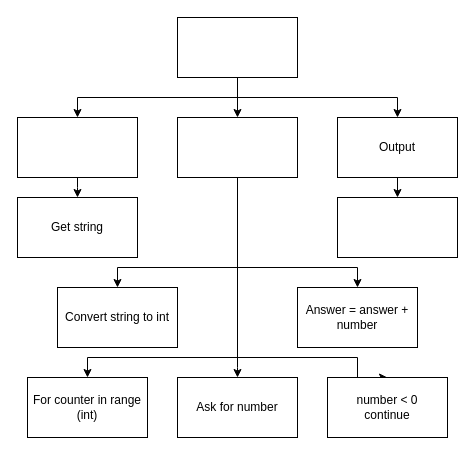
This 475x455 diagram has some shape labels left out. The centre of each missing label's shape, as x and y in pixels:
Input: the point at 77,147
Possitive sum: the point at 237,47
Process: the point at 237,147
Show answer: the point at 397,227
